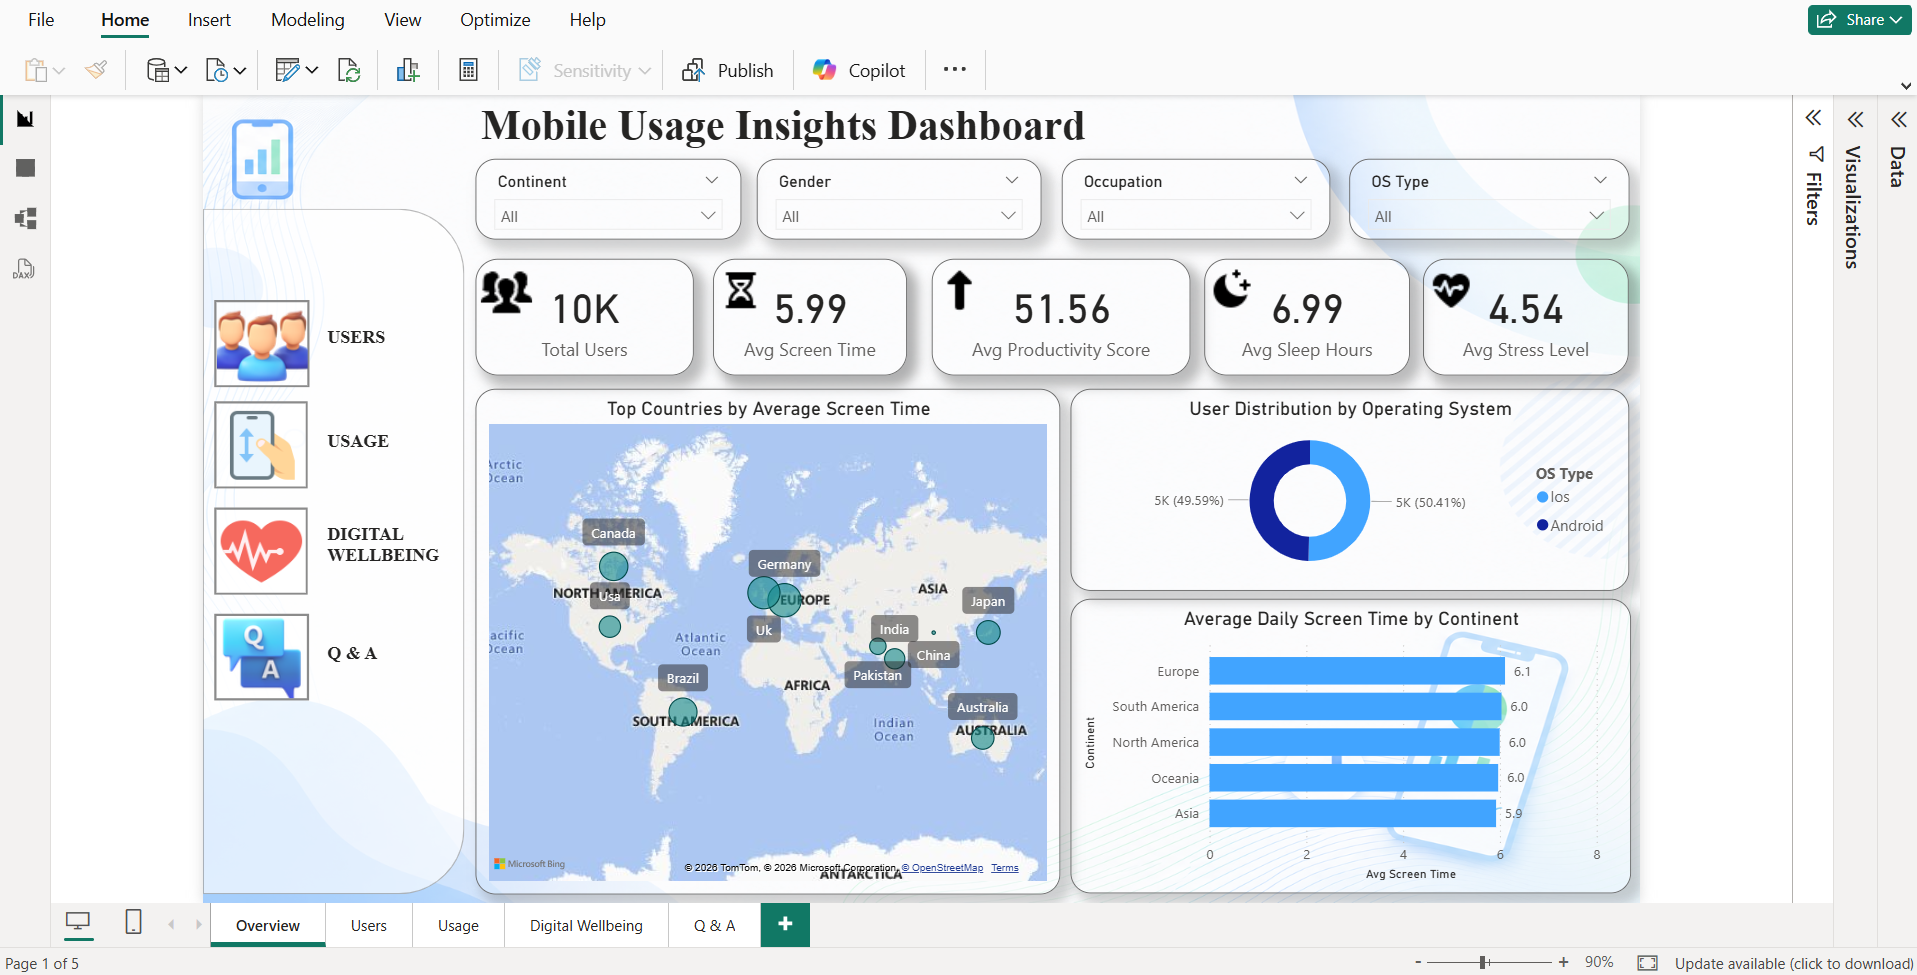

The page's visual inventory and layout, read from the dashboard file:
{"tool":"powerbi","page":{"name":"Overview","canvas":[1280,720],"ordinal":0},"visuals":[{"type":"textbox","box":[242.5,0,1029.1,54.3],"z":0},{"type":"card","fields":{"Values":["Mobile_ScreenTime_Dataset.Total Users"]},"box":[242.5,146,194.2,103.8],"z":1000},{"type":"card","fields":{"Values":["Mobile_ScreenTime_Dataset.Avg Stress Level"]},"box":[1087,146,183.4,103.8],"z":2000},{"type":"card","fields":{"Values":["Mobile_ScreenTime_Dataset.Avg Productivity Score"]},"box":[649.1,146,230.4,103.8],"z":3000},{"type":"card","fields":{"Values":["Mobile_ScreenTime_Dataset.Avg Sleep Hours"]},"box":[891.6,146,183.4,103.8],"z":4000},{"type":"card","fields":{"Values":["Mobile_ScreenTime_Dataset.Avg Screen Time"]},"box":[453.6,146,172.5,103.8],"z":5000},{"type":"map","title":"Top Countries by Average Screen Time","fields":{"Category":["Mobile_ScreenTime_Dataset.Country"],"Size":["Mobile_ScreenTime_Dataset.Avg Screen Time"]},"box":[243,261.6,520.9,450],"z":6000},{"type":"donutChart","title":"User Distribution by Operating System","fields":{"Category":["Mobile_ScreenTime_Dataset.OS Type"],"Y":["Mobile_ScreenTime_Dataset.Total Users"]},"box":[772.5,261.2,497.5,180],"z":7000},{"type":"clusteredBarChart","title":"Average Daily Screen Time by Continent","fields":{"Category":["Mobile_ScreenTime_Dataset.Continent"],"Y":["Mobile_ScreenTime_Dataset.Avg Screen Time"]},"box":[772.1,448.8,498.8,262.8],"z":8000},{"type":"slicer","fields":{"Values":["Mobile_ScreenTime_Dataset.Continent"]},"box":[242.5,56.7,236.5,72.4],"z":9000},{"type":"slicer","fields":{"Values":["Mobile_ScreenTime_Dataset.Gender"]},"box":[493.4,56.7,253.4,72.4],"z":10000},{"type":"slicer","fields":{"Values":["Mobile_ScreenTime_Dataset.Occupation"]},"box":[764.9,56.7,238.9,72.4],"z":11000},{"type":"slicer","fields":{"Values":["Mobile_ScreenTime_Dataset.OS Type"]},"box":[1020.6,56.7,249.7,72.4],"z":12000},{"type":"shape","box":[0,101.3,232.8,610.5],"z":13000},{"type":"actionButton","box":[9.7,182.3,84.9,77.9],"z":14000},{"type":"actionButton","box":[9.7,272.7,83.5,77.9],"z":15000},{"type":"actionButton","box":[9.7,367.3,83.5,77.9],"z":16000},{"type":"textbox","box":[105.7,201.7,112.7,37.6],"z":17000},{"type":"textbox","box":[105.7,293.6,112.7,36.2],"z":18000},{"type":"textbox","box":[106.2,377.6,129.1,56.7],"z":19000},{"type":"actionButton","box":[9.7,462.1,84.5,77.2],"z":20000},{"type":"textbox","box":[106.2,482.6,76,36.2],"z":21000},{"type":"image","box":[891.6,146,47.1,56.7],"z":22000},{"type":"image","box":[453.6,146,49.5,56.7],"z":23000},{"type":"image","box":[1087,146,50.7,56.7],"z":24000},{"type":"image","box":[649.1,146,49.5,56.7],"z":25000},{"type":"image","box":[242.5,147.5,55,55],"z":26000}]}

Visuals, with their boxes on the page's 1280x720 design canvas (x1, y1, x2, y2). These are canvas units, not pixel positions in the 1917x975 screenshot, which may show the page scaled, cropped or inside an application window:
textbox: bbox=[242, 0, 1272, 54]
card - Mobile_ScreenTime_Dataset.Total Users: bbox=[242, 146, 437, 250]
card - Mobile_ScreenTime_Dataset.Avg Stress Level: bbox=[1087, 146, 1270, 250]
card - Mobile_ScreenTime_Dataset.Avg Productivity Score: bbox=[649, 146, 880, 250]
card - Mobile_ScreenTime_Dataset.Avg Sleep Hours: bbox=[892, 146, 1075, 250]
card - Mobile_ScreenTime_Dataset.Avg Screen Time: bbox=[454, 146, 626, 250]
"Top Countries by Average Screen Time" map: bbox=[243, 262, 764, 712]
"User Distribution by Operating System" donutChart: bbox=[772, 261, 1270, 441]
"Average Daily Screen Time by Continent" clusteredBarChart: bbox=[772, 449, 1271, 712]
slicer - Mobile_ScreenTime_Dataset.Continent: bbox=[242, 57, 479, 129]
slicer - Mobile_ScreenTime_Dataset.Gender: bbox=[493, 57, 747, 129]
slicer - Mobile_ScreenTime_Dataset.Occupation: bbox=[765, 57, 1004, 129]
slicer - Mobile_ScreenTime_Dataset.OS Type: bbox=[1021, 57, 1270, 129]
shape: bbox=[0, 101, 233, 712]
actionButton: bbox=[10, 182, 95, 260]
actionButton: bbox=[10, 273, 93, 351]
actionButton: bbox=[10, 367, 93, 445]
textbox: bbox=[106, 202, 218, 239]
textbox: bbox=[106, 294, 218, 330]
textbox: bbox=[106, 378, 235, 434]
actionButton: bbox=[10, 462, 94, 539]
textbox: bbox=[106, 483, 182, 519]
image: bbox=[892, 146, 939, 203]
image: bbox=[454, 146, 503, 203]
image: bbox=[1087, 146, 1138, 203]
image: bbox=[649, 146, 699, 203]
image: bbox=[242, 148, 298, 202]
